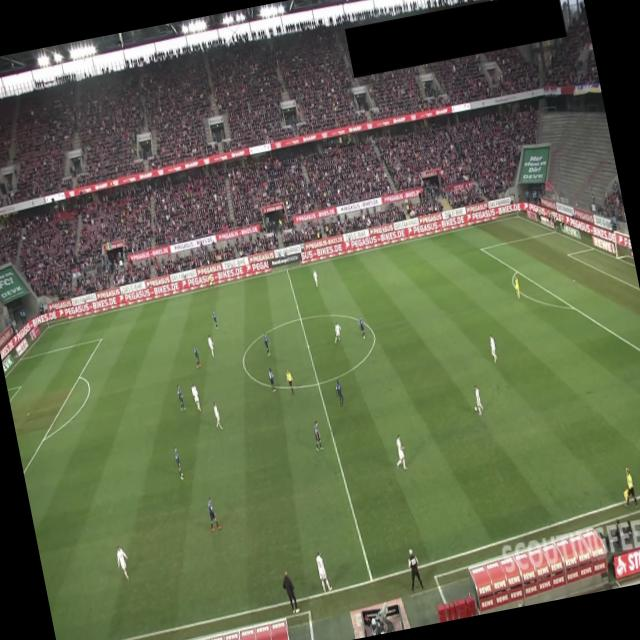ball: (474, 406, 478, 412)
goalkeeper: (512, 273, 522, 300)
player: (314, 548, 334, 594), (114, 544, 133, 582), (391, 433, 409, 472), (205, 494, 222, 532), (470, 384, 484, 416), (311, 419, 324, 452), (172, 446, 185, 479), (334, 378, 346, 410), (212, 400, 224, 431), (190, 382, 202, 412), (488, 334, 499, 363), (176, 384, 187, 412), (267, 365, 278, 393), (331, 321, 343, 344), (192, 343, 202, 369), (262, 331, 272, 357), (357, 316, 367, 340), (207, 333, 216, 358), (312, 268, 320, 288), (212, 310, 219, 328)
referee: (619, 467, 639, 509), (284, 368, 296, 396), (206, 271, 214, 289)
